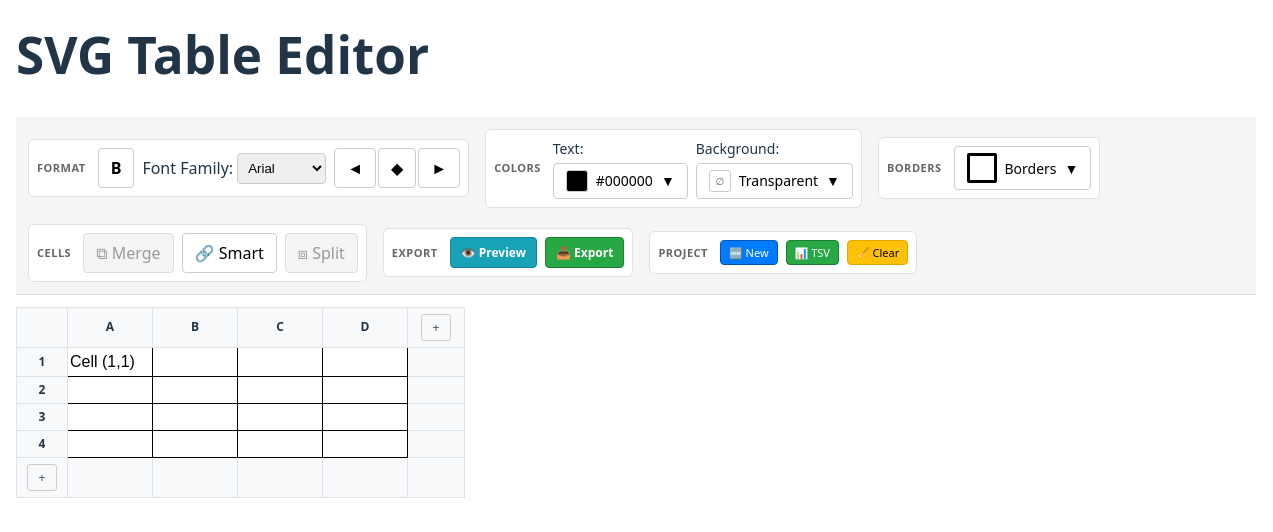
it: Borders Integration › should show selection when cells are clicked
// Click on a cell to select it
Click the text "Cell (1,1)": (102, 362) [70, 353, 135, 370]
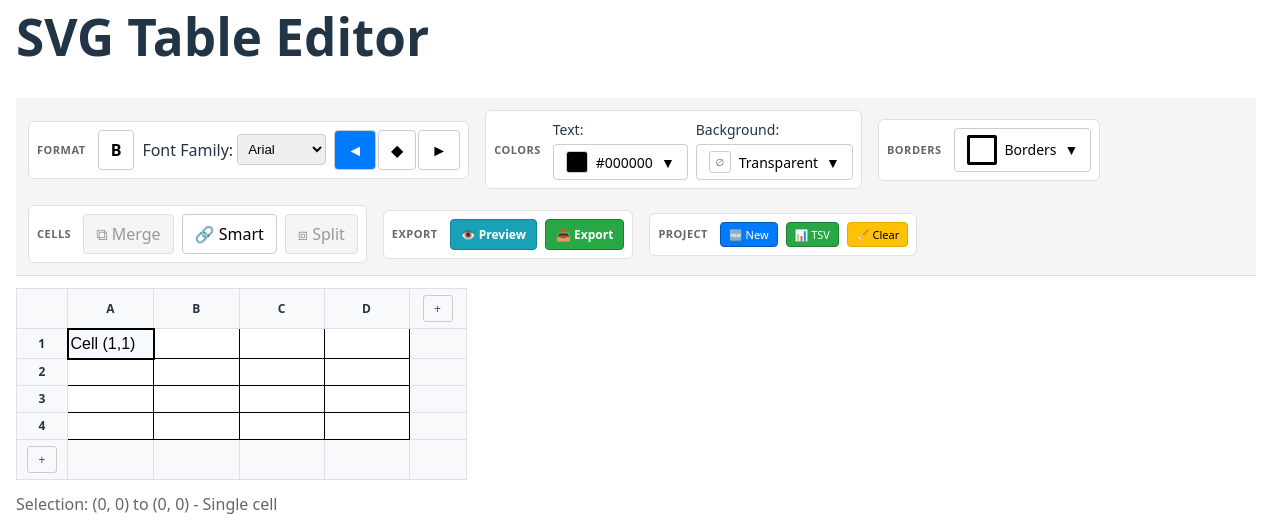
Expected: the text "Selection: (0, 0) to (0, 0) - Single cell" is shown, [16, 494, 278, 516]
